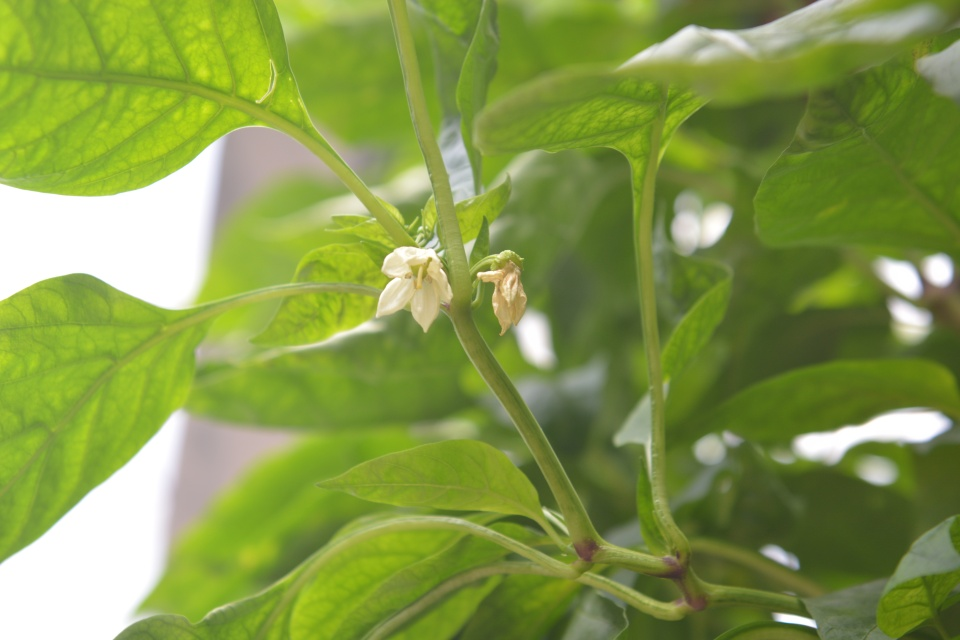flower: (373, 243, 453, 335)
